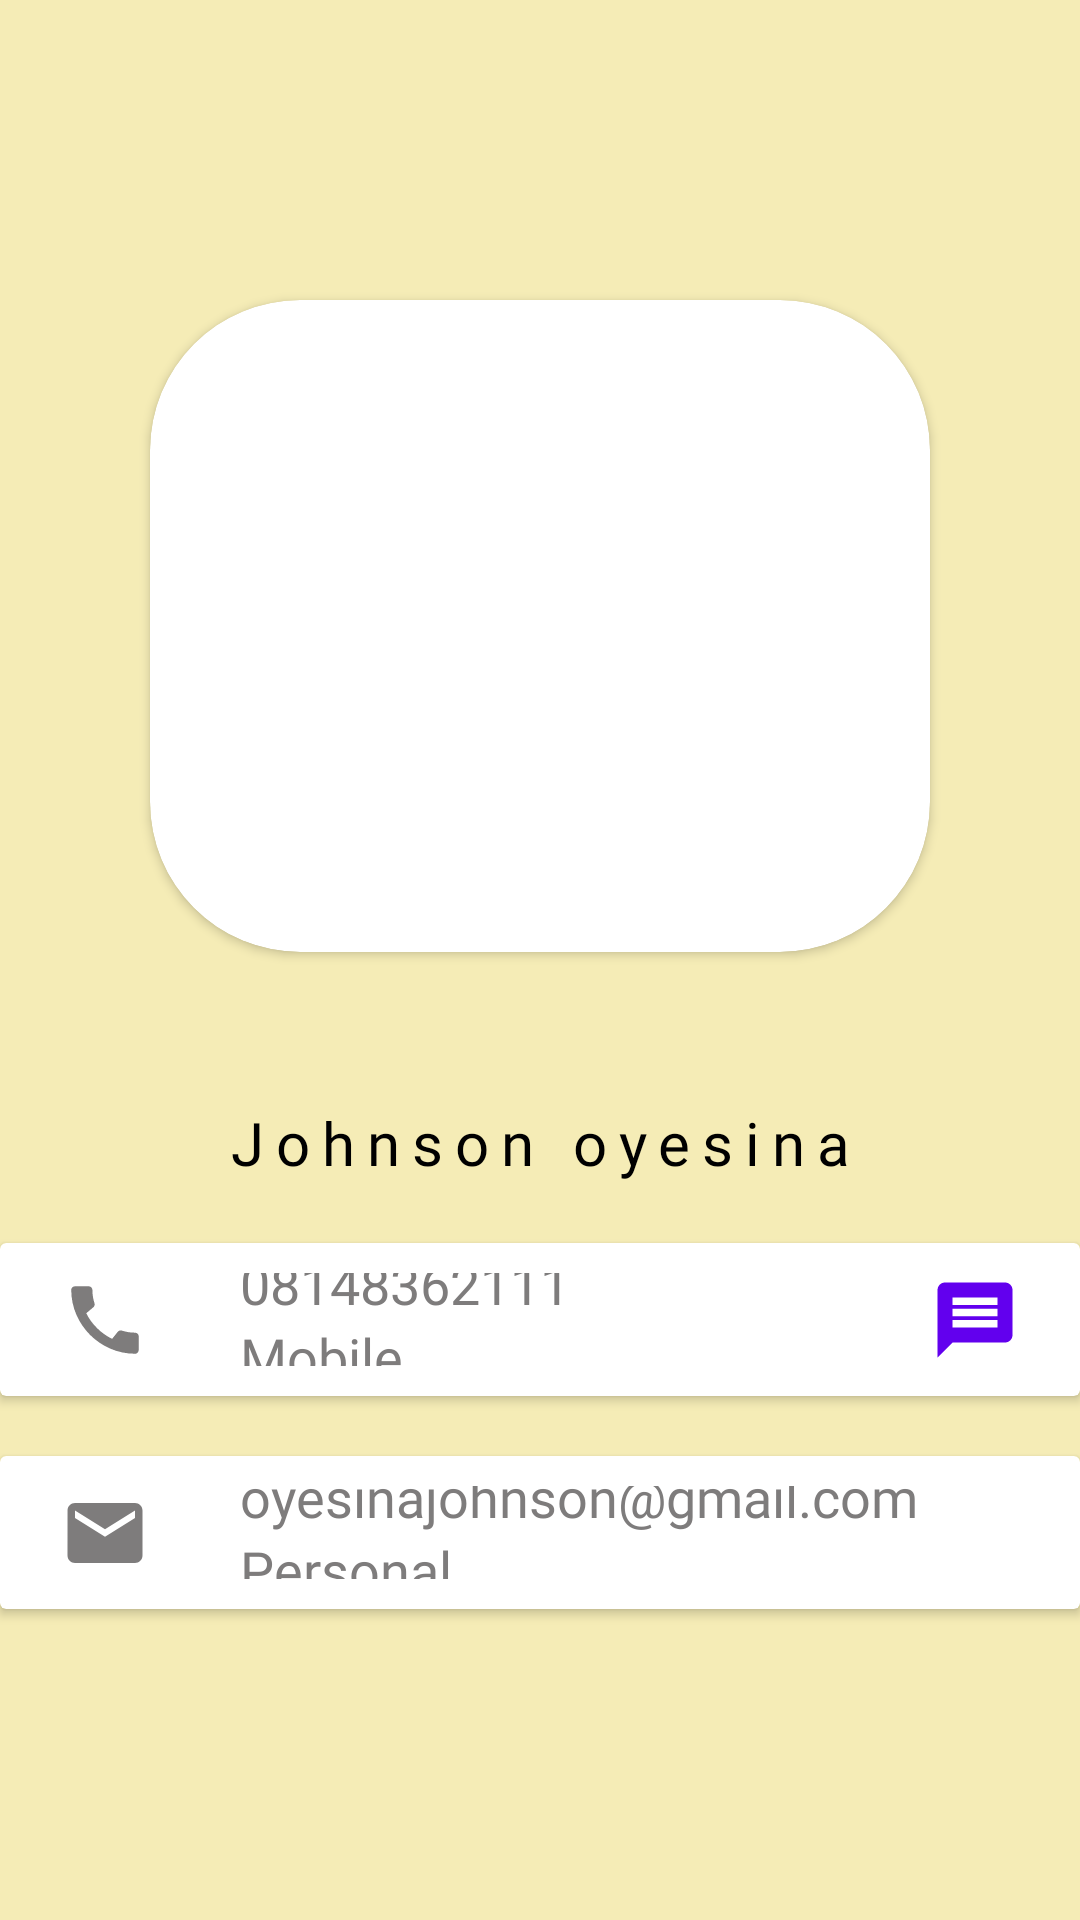

Locate icon controls on the screen. Image size 1080×1920, boxes as [x1=x1, y1=y1, x2=x2, y2=y2].
call: [x1=71, y1=1286, x2=139, y2=1354]
message: [x1=937, y1=1282, x2=1013, y2=1358]
